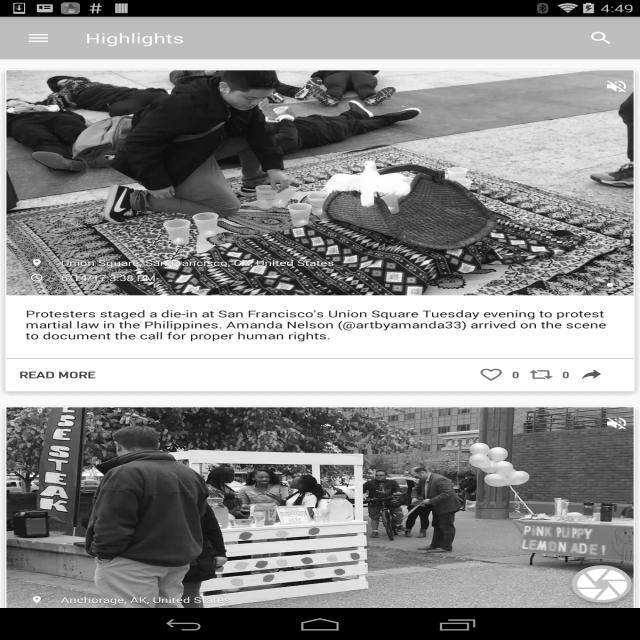Button: (7, 358, 108, 391)
ImageButton: (559, 553, 640, 615), (9, 17, 68, 59), (469, 358, 512, 391), (520, 358, 562, 391), (570, 358, 612, 391)
ImageView: (6, 70, 640, 296), (6, 408, 640, 632), (604, 78, 629, 95), (588, 30, 614, 46), (604, 416, 629, 432)
TextView: (26, 307, 614, 342), (30, 258, 335, 268), (30, 594, 231, 606), (85, 29, 184, 47), (30, 272, 156, 284), (6, 358, 634, 359), (562, 368, 570, 381), (512, 368, 519, 381)
